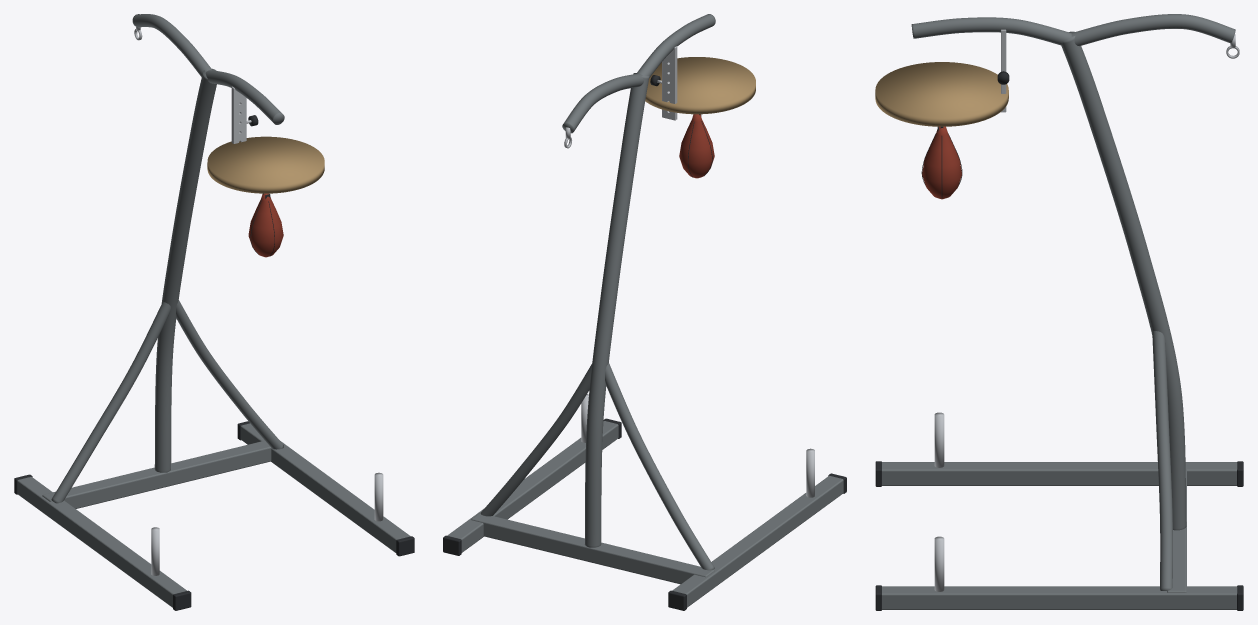
Rendered from full.fbx.
The picture shows the model from 3 angles, left to right: view 1: azimuth 30°, elevation 25°; view 2: azimuth 150°, elevation 25°; view 3: azimuth 270°, elevation 25°; orthographic projection. The views are drawn at different scales.
Visible parts, largest first — view 1: Tall curved central column, Horizontal round speed platform, Rear Ubase crossfoot, Long Ubase foot -1, Long Ubase foot 1, Curved lower brace -1, Curved lower brace 1, Pear speedbag closed body, Upper rear curved arm, Upper forward curved arm, Perforated height adjustment strip; view 2: Tall curved central column, Rear Ubase crossfoot, Horizontal round speed platform, Long Ubase foot -1, Long Ubase foot 1, Curved lower brace -1, Curved lower brace 1, Pear speedbag closed body, Upper rear curved arm, Upper forward curved arm, Perforated height adjustment strip; view 3: Tall curved central column, Long Ubase foot 1, Long Ubase foot -1, Horizontal round speed platform, Curved lower brace 1, Upper rear curved arm, Upper forward curved arm, Pear speedbag closed body, Rear Ubase crossfoot, Vertical weight peg -1, Vertical weight peg 1.
Boxes of the visible parts, x1,y1,x2,y2 form: Tall curved central column: (154, 68, 216, 472); Horizontal round speed platform: (207, 136, 324, 193); Rear Ubase crossfoot: (42, 440, 271, 508); Long Ubase foot -1: (17, 477, 187, 607); Long Ubase foot 1: (240, 423, 410, 552); Curved lower brace -1: (51, 302, 170, 503); Curved lower brace 1: (176, 300, 283, 449); Pear speedbag closed body: (248, 193, 283, 257); Upper rear curved arm: (132, 14, 211, 76); Upper forward curved arm: (205, 70, 284, 124); Perforated height adjustment strip: (231, 86, 246, 143); Tall curved central column: (584, 73, 649, 547); Rear Ubase crossfoot: (471, 513, 714, 584); Horizontal round speed platform: (645, 57, 755, 114); Long Ubase foot -1: (672, 475, 843, 607); Long Ubase foot 1: (447, 421, 618, 552); Curved lower brace -1: (605, 362, 714, 570); Curved lower brace 1: (480, 363, 592, 516); Pear speedbag closed body: (679, 114, 714, 178); Upper rear curved arm: (562, 73, 643, 133); Upper forward curved arm: (636, 14, 715, 77); Perforated height adjustment strip: (662, 46, 677, 120); Tall curved central column: (1061, 31, 1186, 530); Long Ubase foot 1: (882, 586, 1237, 609); Long Ubase foot -1: (882, 462, 1237, 485); Horizontal round speed platform: (875, 62, 1008, 126); Curved lower brace 1: (1152, 331, 1172, 590); Upper rear curved arm: (1071, 14, 1235, 46); Upper forward curved arm: (911, 17, 1071, 45); Pear speedbag closed body: (922, 126, 961, 199); Rear Ubase crossfoot: (1167, 462, 1186, 592); Vertical weight peg -1: (934, 412, 944, 467); Vertical weight peg 1: (934, 536, 944, 591).
Size of the model in its own units: 118 by 219 by 138.
